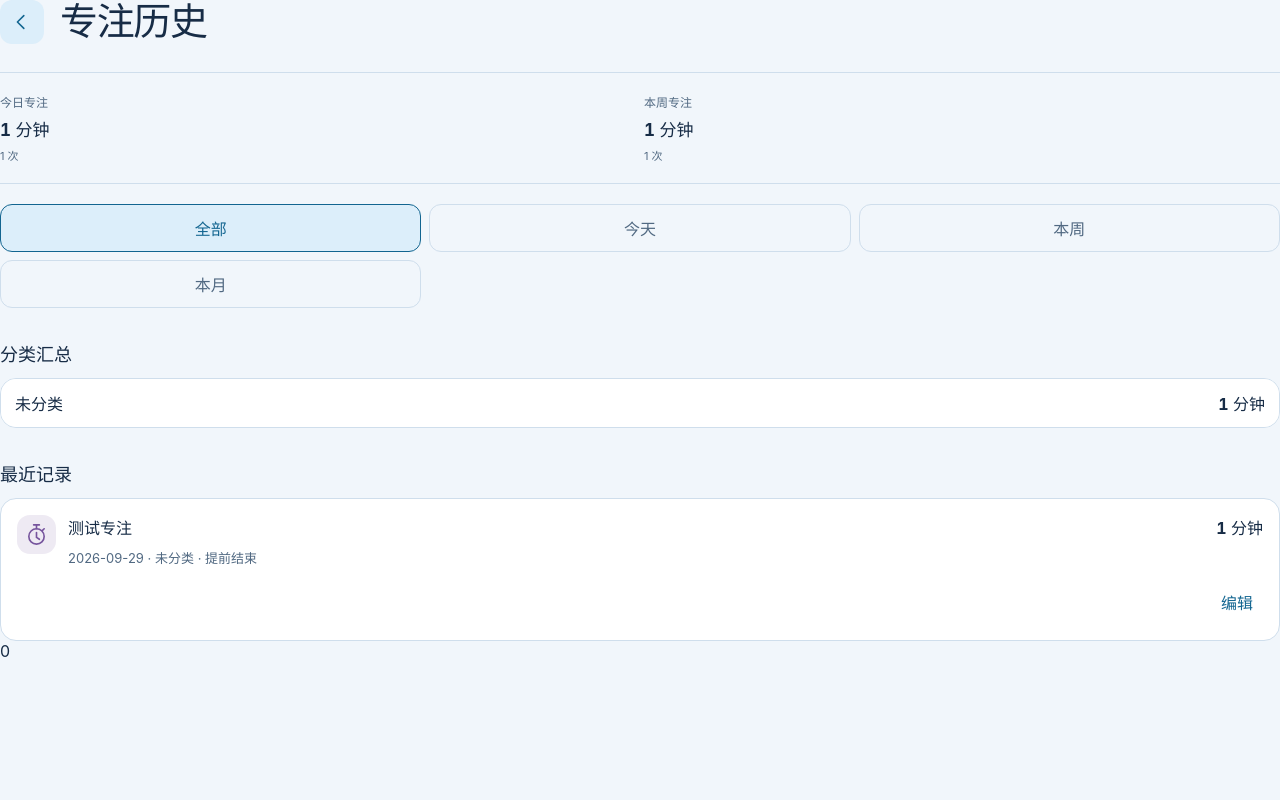
Scenario: focus details write guard › locks edit/cancel while writing and retains the draft for a successful retry
The image size is (1280, 800).
Click the button "编辑": [1237, 602] box [1211,580,1263,624]
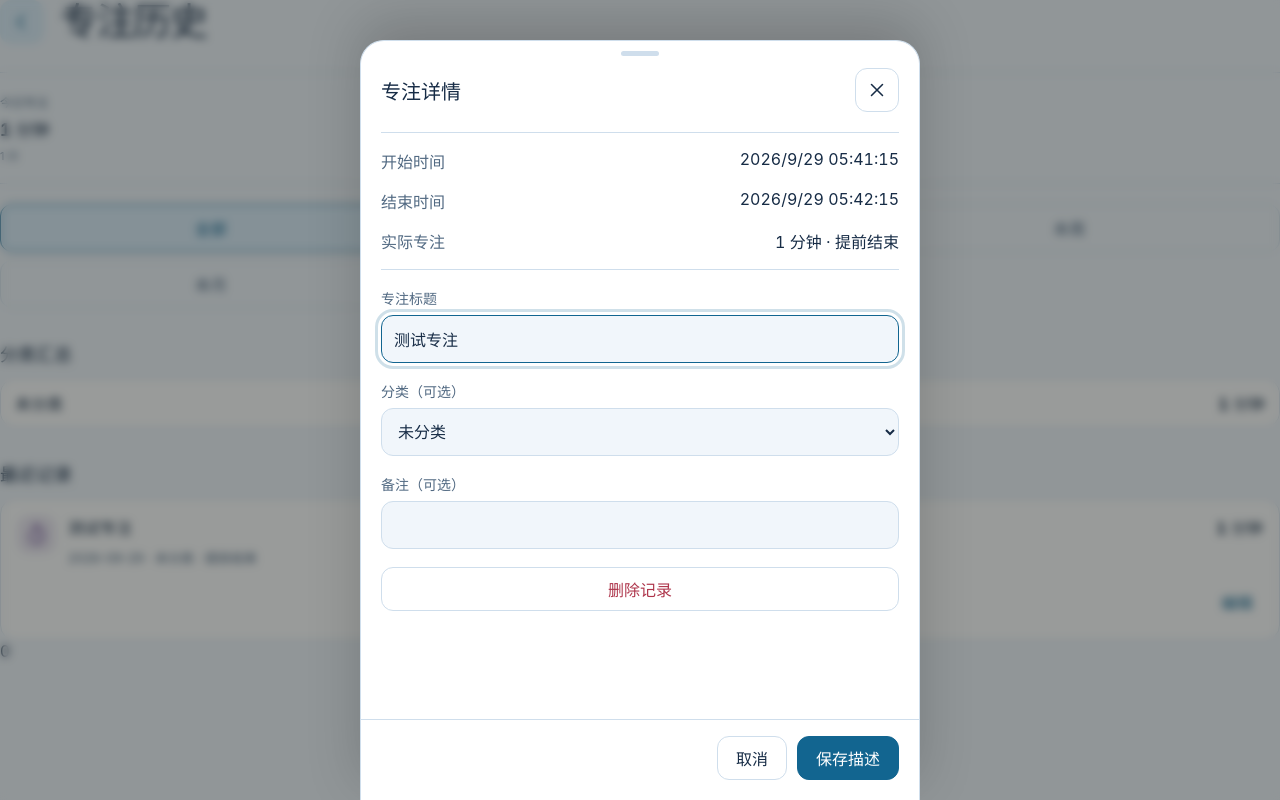
Replace the text in the field labelled "专注标题" with "保留的草稿": [640, 339] box [381,315,899,363]
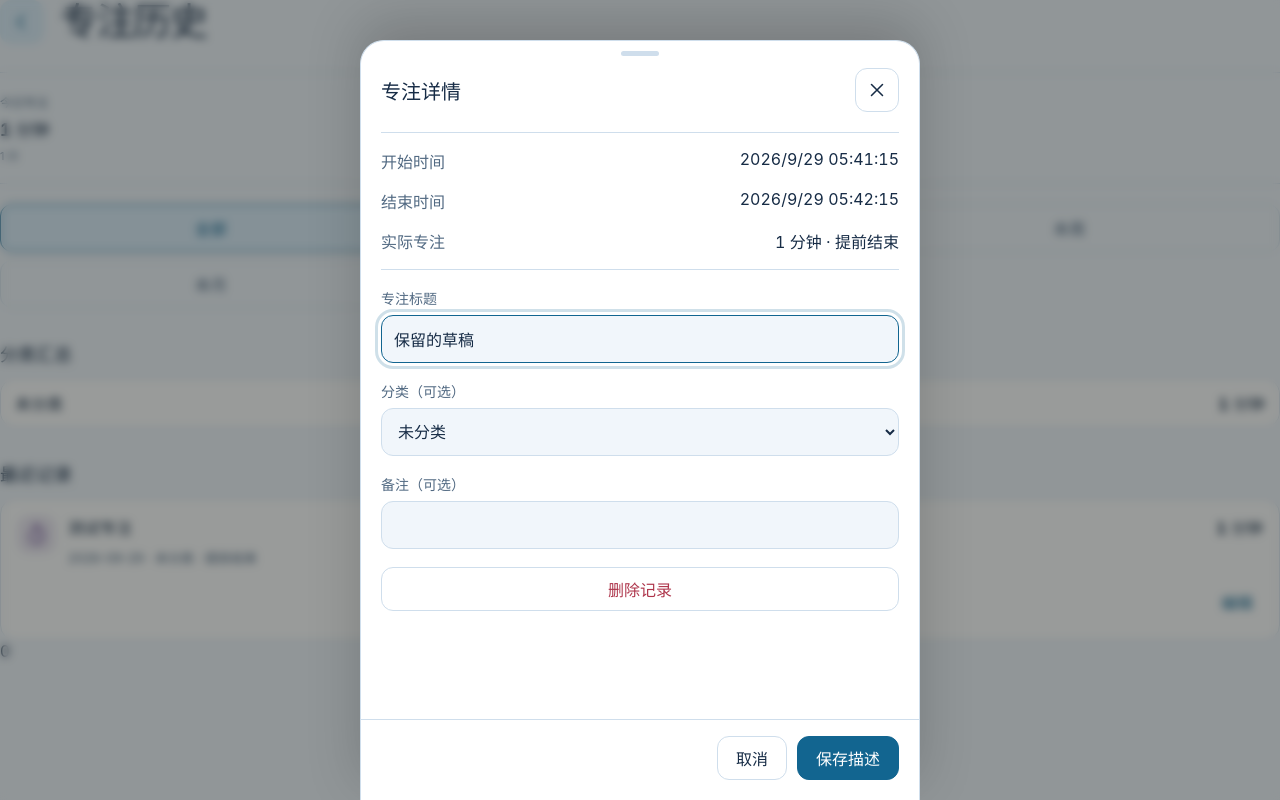
Click the button "保存描述": [848, 758] box [797,736,899,780]
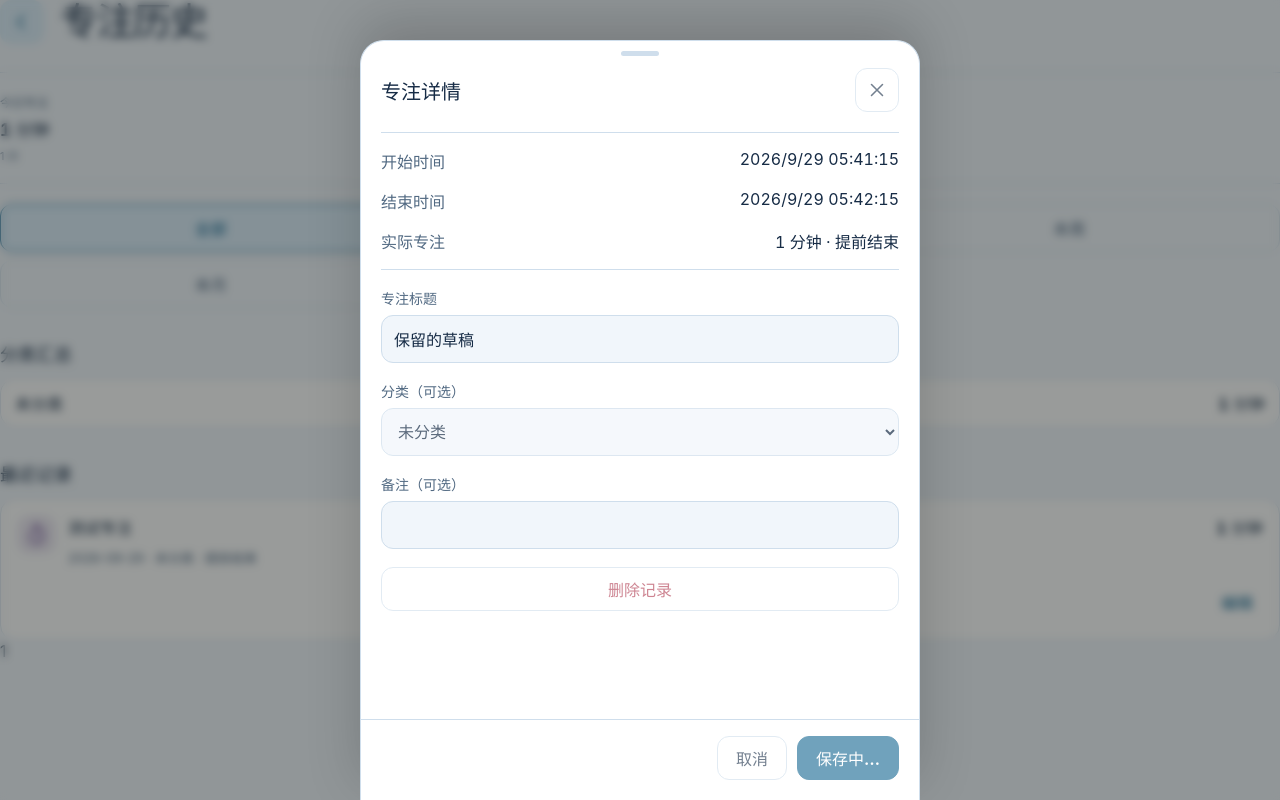
Expected: the field labelled "专注标题" is disabled, [381,315,899,363]
Result: the text named "写入保护" reads "1" at [0,641,6,661]
Result: the button "取消" is disabled at [717,736,787,780]
Click the button "保存中…": [848, 758] box [797,736,899,780]
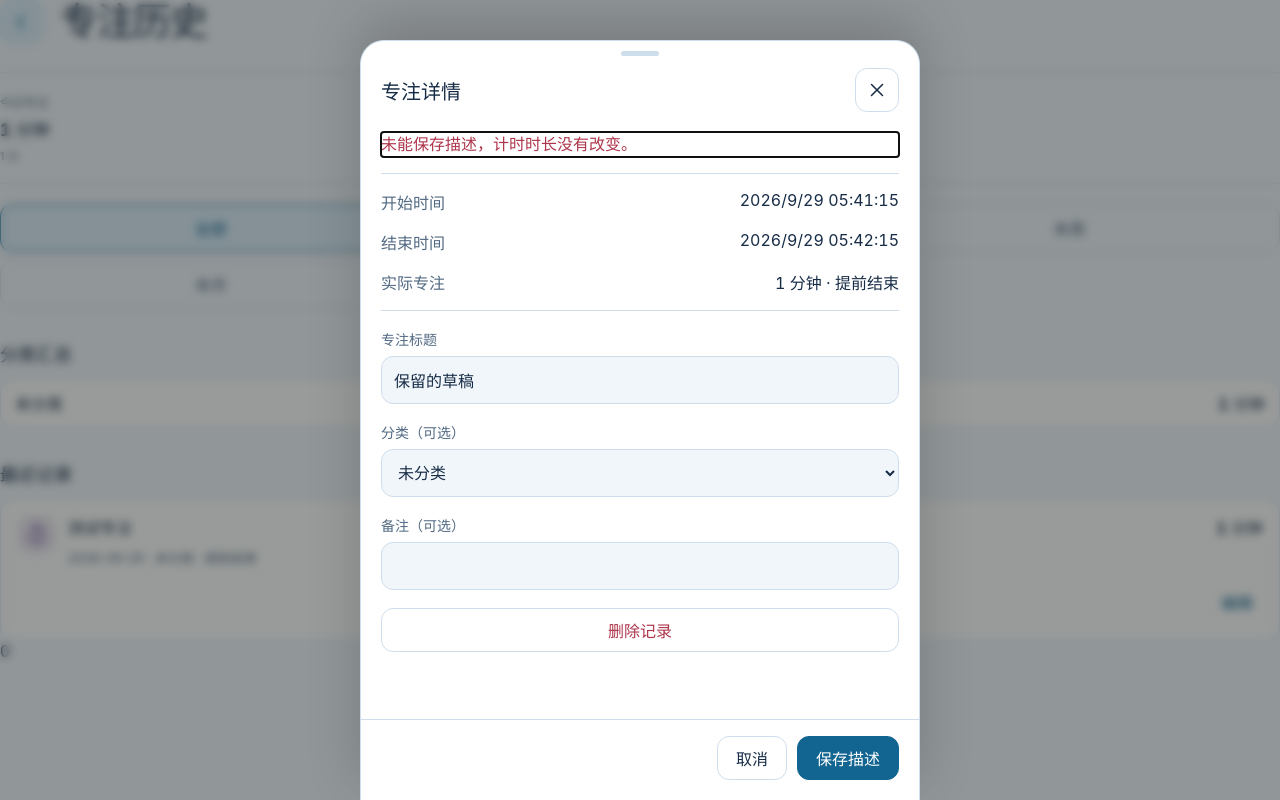
Result: the message shows "计时时长没有改变" at [381,134,637,154]
Result: the field labelled "专注标题" is enabled at [381,356,899,404]
Result: the text named "写入保护" reads "0" at [0,641,10,661]
Click the button "保存描述": [848, 758] box [797,736,899,780]
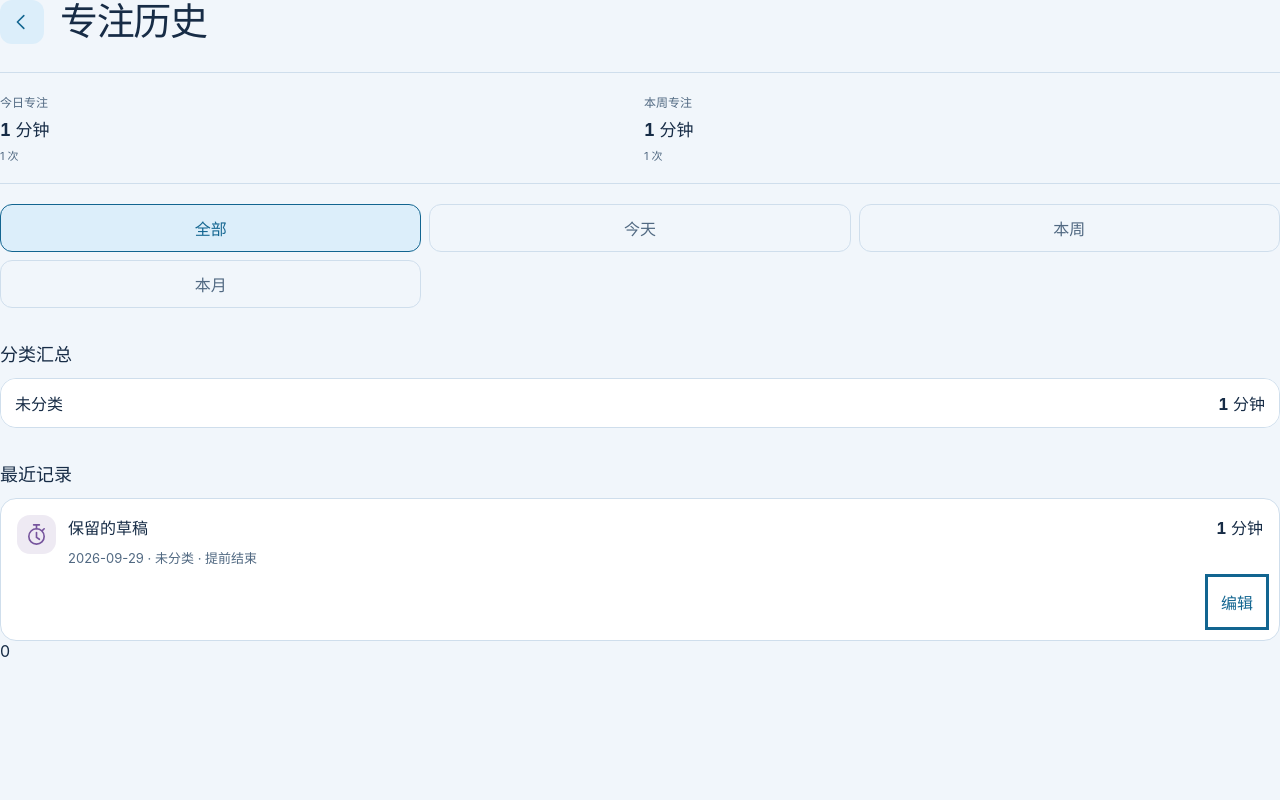
Result: the text "保留的草稿" is shown at [68,515,148,539]
